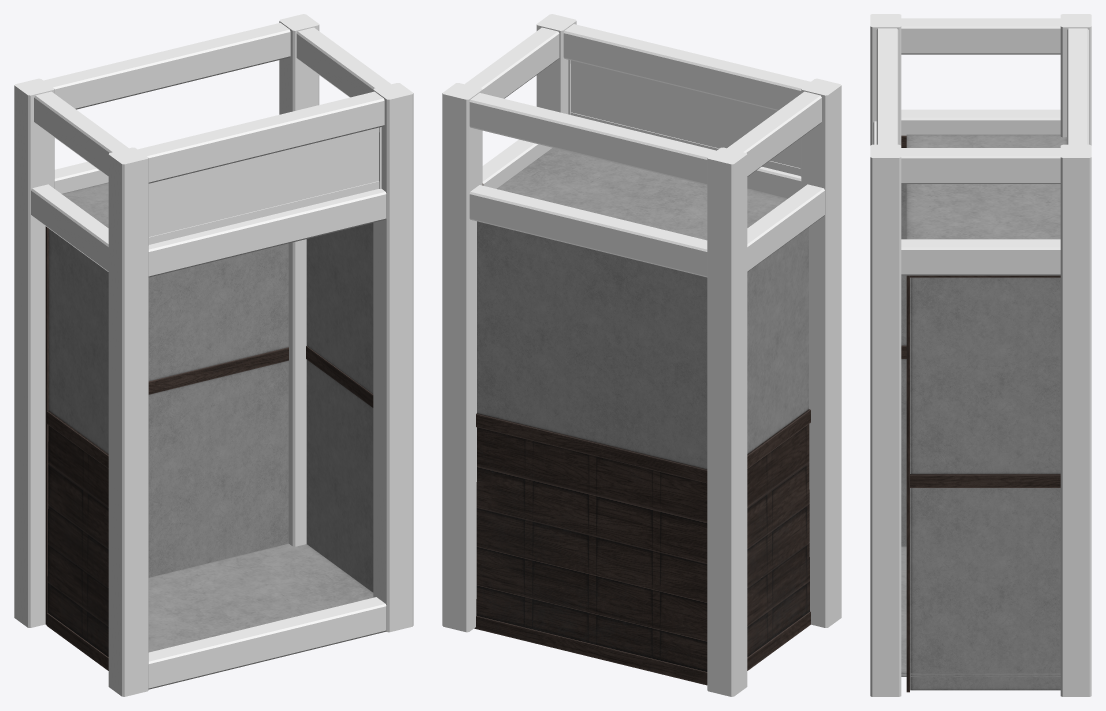
The model's file is Wallcabinet.FBX.
3 views of the same model, side by side, from view 1: azimuth 30°, elevation 25°; view 2: azimuth 150°, elevation 25°; view 3: azimuth 270°, elevation 25° (orthographic).
Visible parts, largest first — view 1: wall_C003, wall_C004, wall_C005, Pillar007, Pillar006, Pillar008, wall_C006, wall_A006, Column02_A004, Column_A004, Column02_A002, Column02_A005 (+3 smaller); view 2: wall_C003, wall_C004, Pillar008, Pillar009, Pillar007, Column02_A004, wall_C006, wall_A006, Column02_A005, Column_A003, Column02_A002, Pillar006 (+1 smaller); view 3: wall_C005, Column02_A004, Pillar006, Pillar009, wall_C006, Column02_A002, Column02_A005, wall_C004, Pillar007, Pillar008.
Part boxes in pixels (x1,y1,x2,y2): wall_C003: [148, 243, 288, 577]; wall_C004: [45, 226, 108, 670]; wall_C005: [306, 223, 373, 592]; Pillar007: [108, 147, 148, 696]; Pillar006: [373, 83, 413, 632]; Pillar008: [14, 78, 54, 627]; wall_C006: [62, 182, 373, 652]; wall_A006: [148, 127, 381, 245]; Column02_A004: [31, 27, 390, 271]; Column_A004: [148, 597, 386, 689]; Column02_A002: [138, 91, 384, 183]; Column02_A005: [43, 22, 290, 109]; wall_C003: [474, 221, 707, 685]; wall_C004: [747, 227, 810, 670]; Pillar008: [707, 147, 747, 696]; Pillar009: [442, 83, 482, 632]; Pillar007: [801, 78, 841, 627]; Column02_A004: [465, 27, 824, 271]; wall_C006: [497, 148, 788, 240]; wall_A006: [568, 60, 801, 176]; Column02_A005: [469, 93, 716, 185]; Column_A003: [469, 185, 707, 277]; Column02_A002: [563, 24, 810, 110]; Pillar006: [536, 14, 576, 114]; wall_C005: [906, 275, 1060, 692]; Column02_A004: [901, 18, 1060, 275]; Pillar006: [870, 144, 901, 696]; Pillar009: [1060, 144, 1091, 696]; wall_C006: [901, 134, 1066, 676]; Column02_A002: [876, 28, 898, 144]; Column02_A005: [1067, 28, 1088, 144]; wall_C004: [901, 135, 906, 546]; Pillar007: [870, 14, 901, 145]; Pillar008: [1060, 14, 1091, 145].
Bounding box in the file's own units: 1.89 × 3.3 × 1.23.
